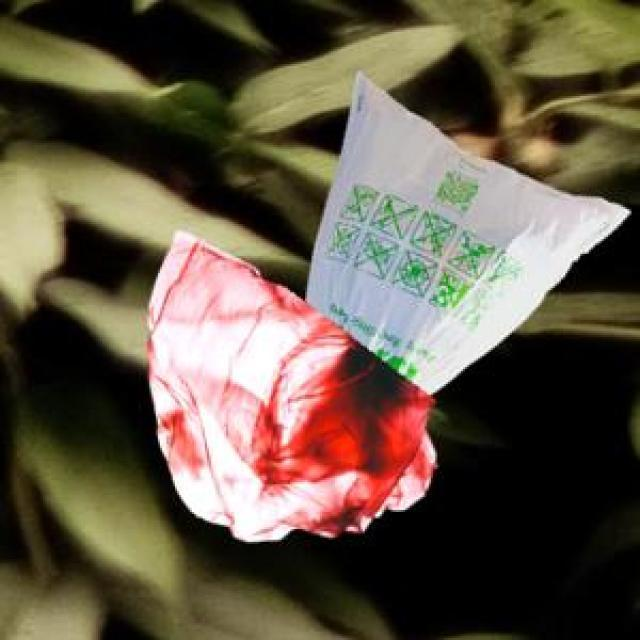Bolsa-de-plastico: (317, 88, 605, 382), (155, 233, 433, 532)
